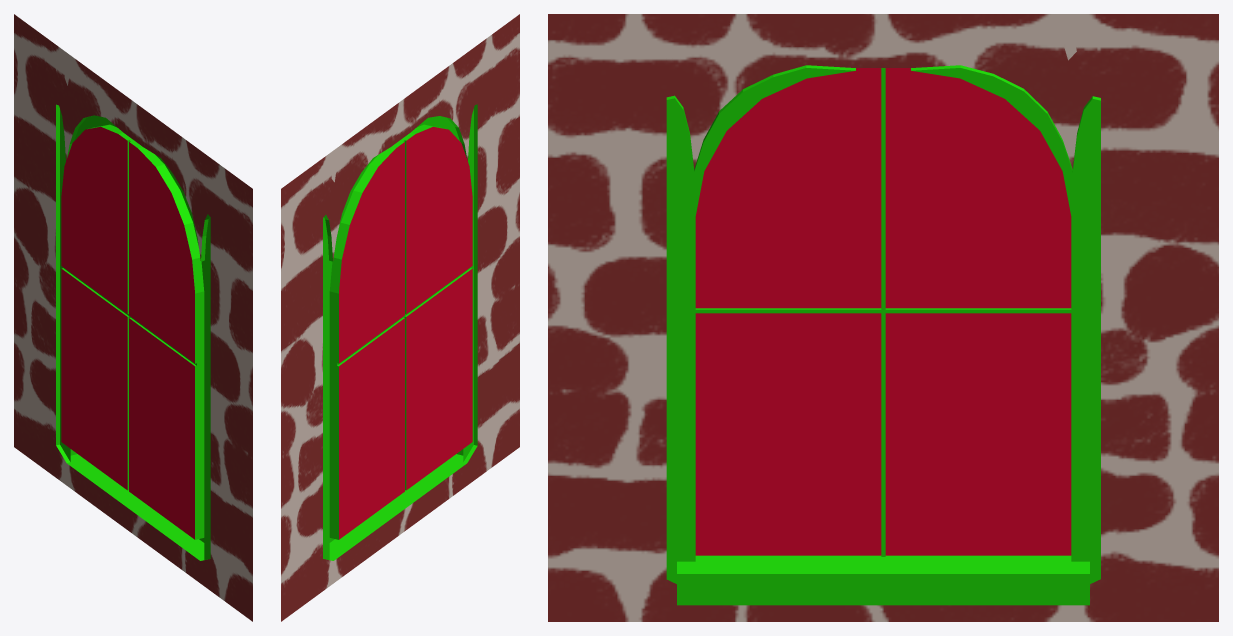
Rendered from WindowTest.fbx.
3 views of the same model, side by side, from view 1: azimuth 30°, elevation 25°; view 2: azimuth 150°, elevation 25°; view 3: azimuth 270°, elevation 25° (orthographic). The views are drawn at different scales.
Parts seen in each view (by area): view 1: Plane; view 2: Plane; view 3: Plane.
Part boxes in pixels (x1,y1,x2,y2): Plane: (14,14,252,621); Plane: (281,14,519,621); Plane: (548,14,1218,621).
Bounding box in the file's own units: 12.87 × 200 × 200.
